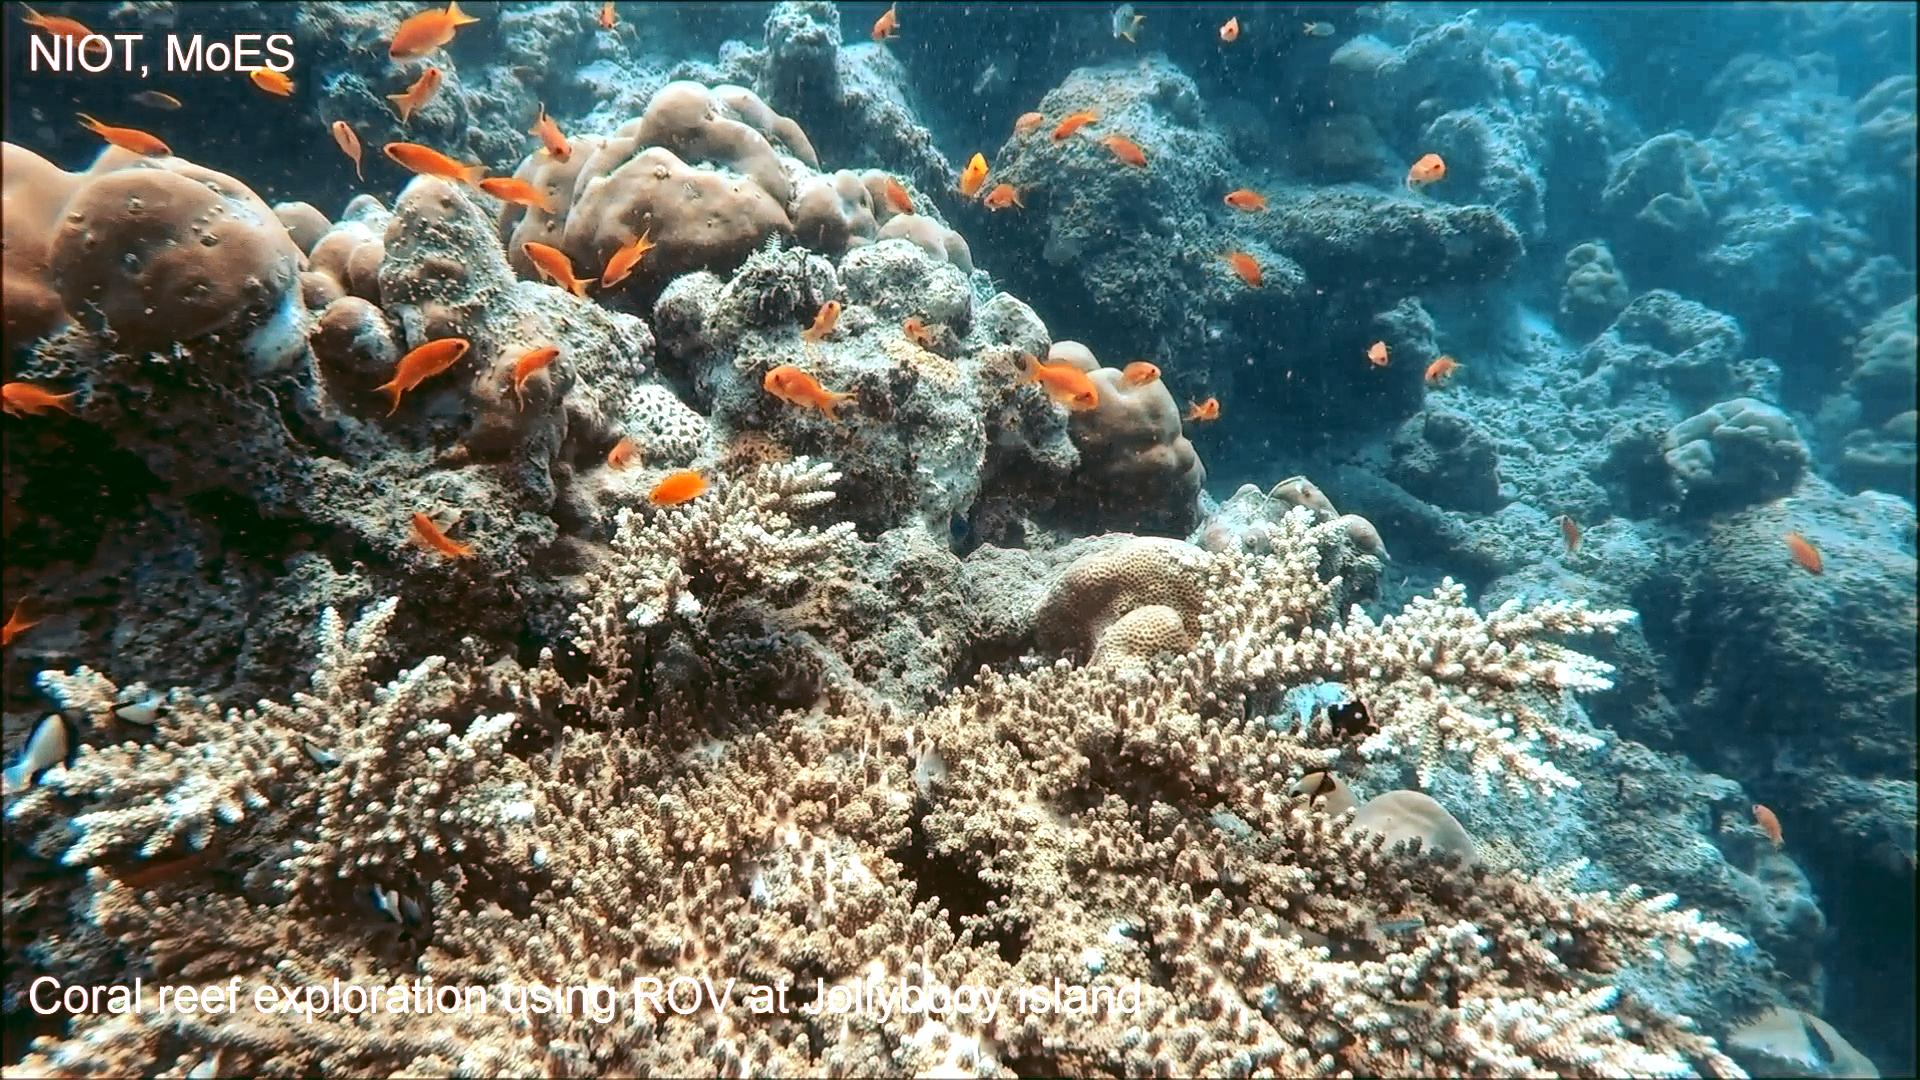Porites-Porites pukoensis: (488, 73, 975, 293), (0, 120, 310, 386)
